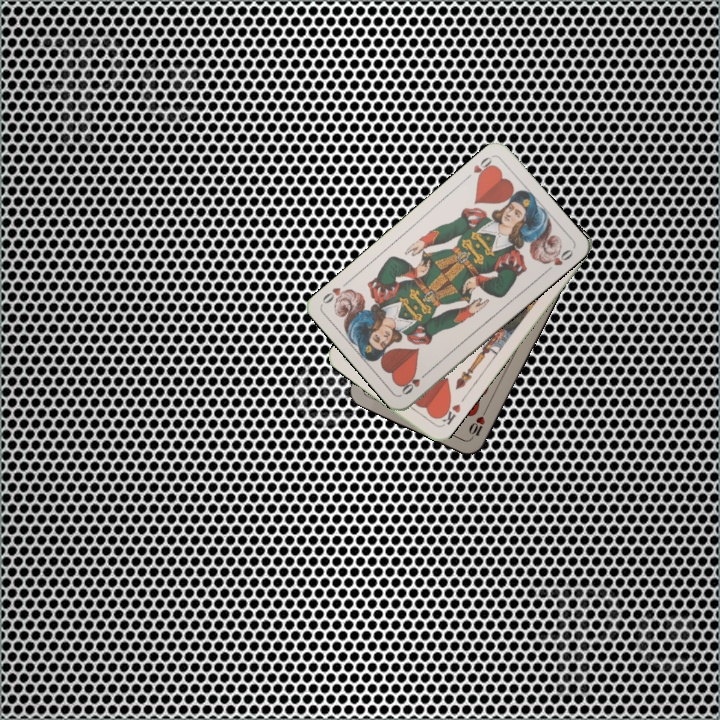H10: (465, 404, 490, 442)
HK: (434, 398, 463, 430)
HO: (397, 367, 431, 398), (469, 152, 497, 183)
